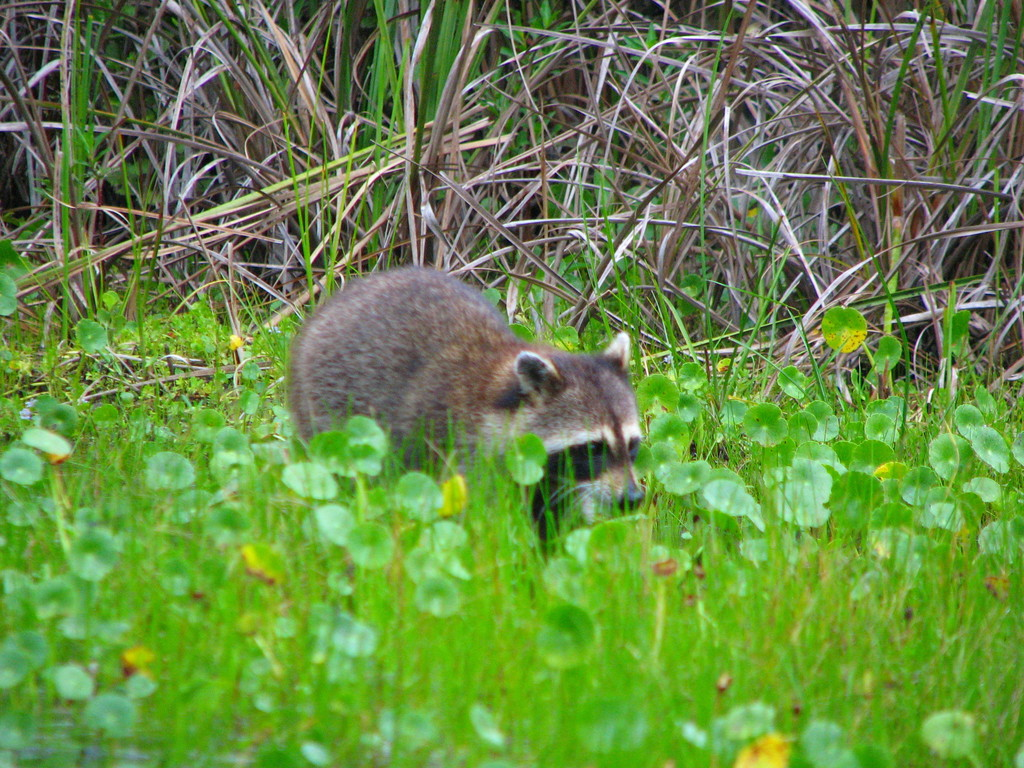raccoon: (290, 267, 641, 521)
